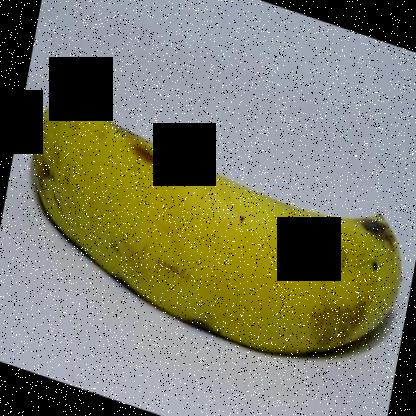freshripe: (19, 82, 415, 371)
